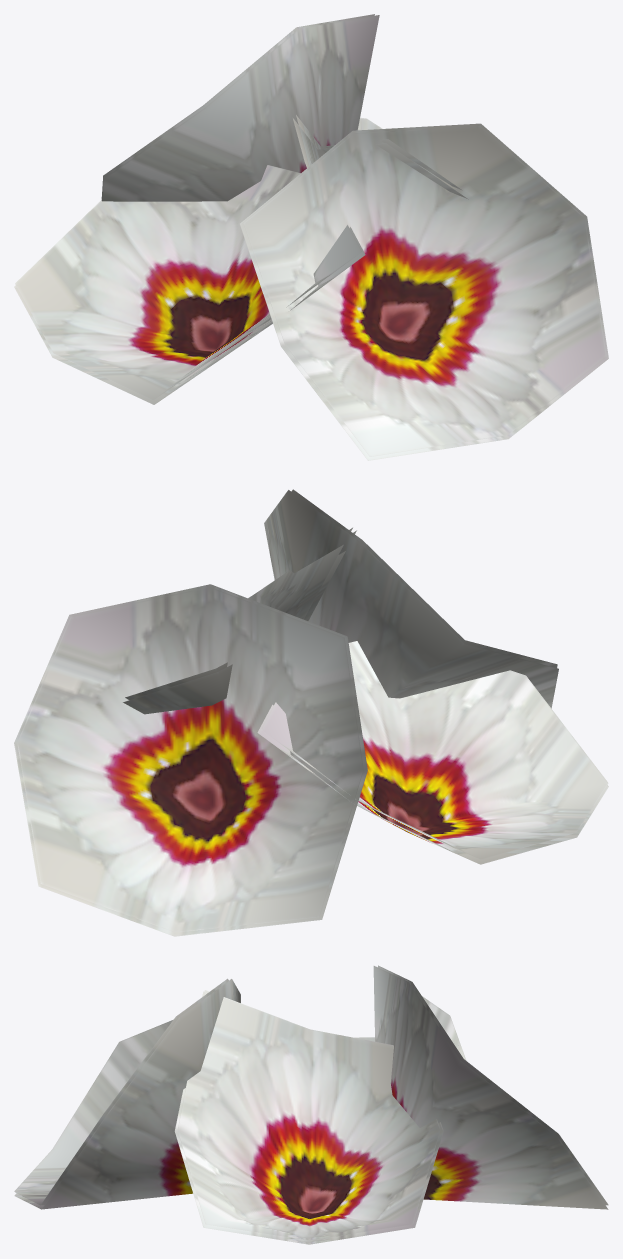
Rendered from flower_white_1.fbx.
3 renders of one model, top to bottom at view 1: azimuth 30°, elevation 25°; view 2: azimuth 150°, elevation 25°; view 3: azimuth 270°, elevation 25°, orthographic. The views are drawn at different scales.
Visible parts, largest first — view 1: flower_white_1; view 2: flower_white_1; view 3: flower_white_1.
Boxes of the visible parts, box(x1,y1,x2,y2) form: flower_white_1: box(14, 14, 608, 460); flower_white_1: box(14, 489, 608, 936); flower_white_1: box(14, 965, 608, 1244).
Size of the model in its own units: 0.8174 by 0.41 by 0.9509.
